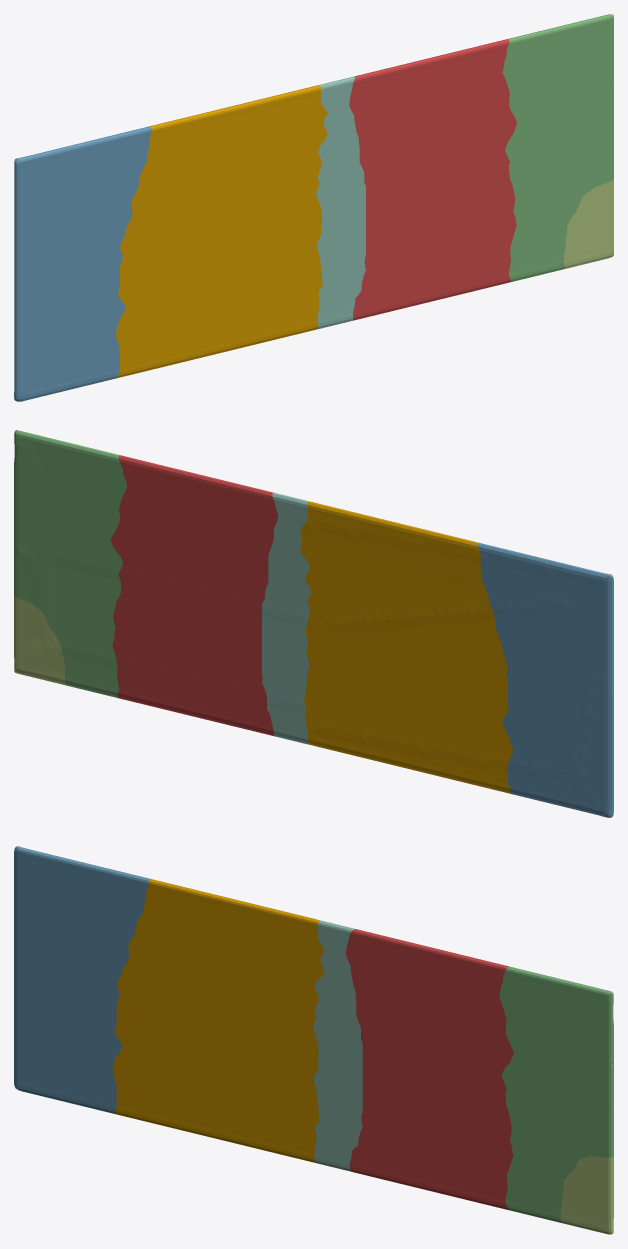
The model's file is fractured_75_6pcs.glb.
The picture shows the model from 3 angles, top to bottom: view 1: azimuth 30°, elevation 25°; view 2: azimuth 150°, elevation 25°; view 3: azimuth 330°, elevation 25°; orthographic projection.
Parts seen in each view (by area): view 1: piece_0.obj, piece_1.obj, piece_2.obj, piece_3.obj, piece_4.obj, piece_5.obj; view 2: piece_0.obj, piece_1.obj, piece_2.obj, piece_3.obj, piece_4.obj, piece_5.obj; view 3: piece_0.obj, piece_1.obj, piece_2.obj, piece_3.obj, piece_4.obj, piece_5.obj.
Part boxes in pixels (x1=…): piece_0.obj: x1=116, y1=85, x2=327, y2=378; piece_1.obj: x1=349, y1=39, x2=517, y2=320; piece_2.obj: x1=14, y1=126, x2=151, y2=401; piece_3.obj: x1=502, y1=14, x2=613, y2=281; piece_4.obj: x1=316, y1=76, x2=365, y2=329; piece_5.obj: x1=564, y1=179, x2=613, y2=268; piece_0.obj: x1=300, y1=501, x2=512, y2=793; piece_1.obj: x1=110, y1=455, x2=277, y2=736; piece_2.obj: x1=478, y1=542, x2=613, y2=817; piece_3.obj: x1=14, y1=430, x2=127, y2=697; piece_4.obj: x1=262, y1=492, x2=311, y2=744; piece_5.obj: x1=14, y1=595, x2=65, y2=684; piece_0.obj: x1=112, y1=879, x2=324, y2=1162; piece_1.obj: x1=346, y1=929, x2=513, y2=1210; piece_2.obj: x1=14, y1=846, x2=149, y2=1113; piece_3.obj: x1=499, y1=966, x2=613, y2=1223; piece_4.obj: x1=313, y1=920, x2=362, y2=1171; piece_5.obj: x1=560, y1=1156, x2=613, y2=1234.
Size of the model in its own units: 1 by 0.3887 by 0.0104.
